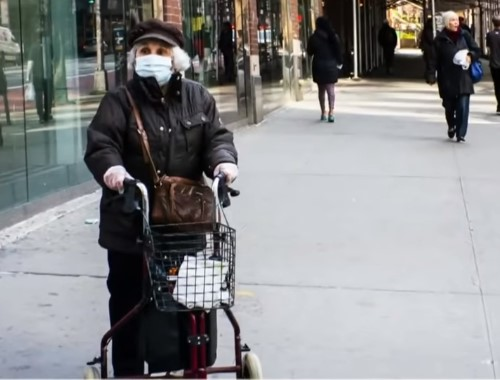face_with_mask: (127, 19, 191, 89)
